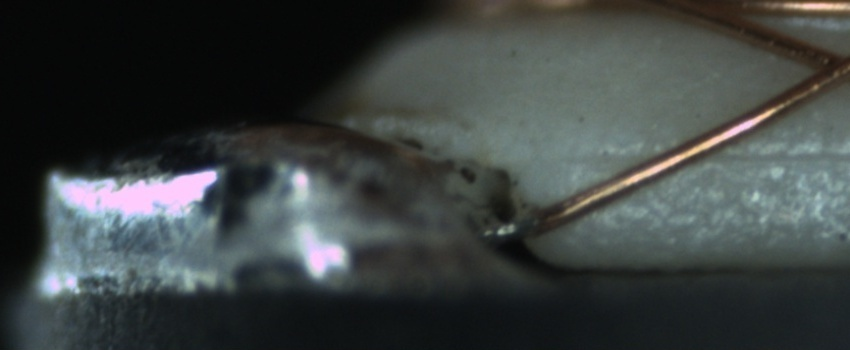CL: (783, 33, 847, 95)
DL: (567, 125, 848, 186)
TS: (489, 210, 537, 242)
